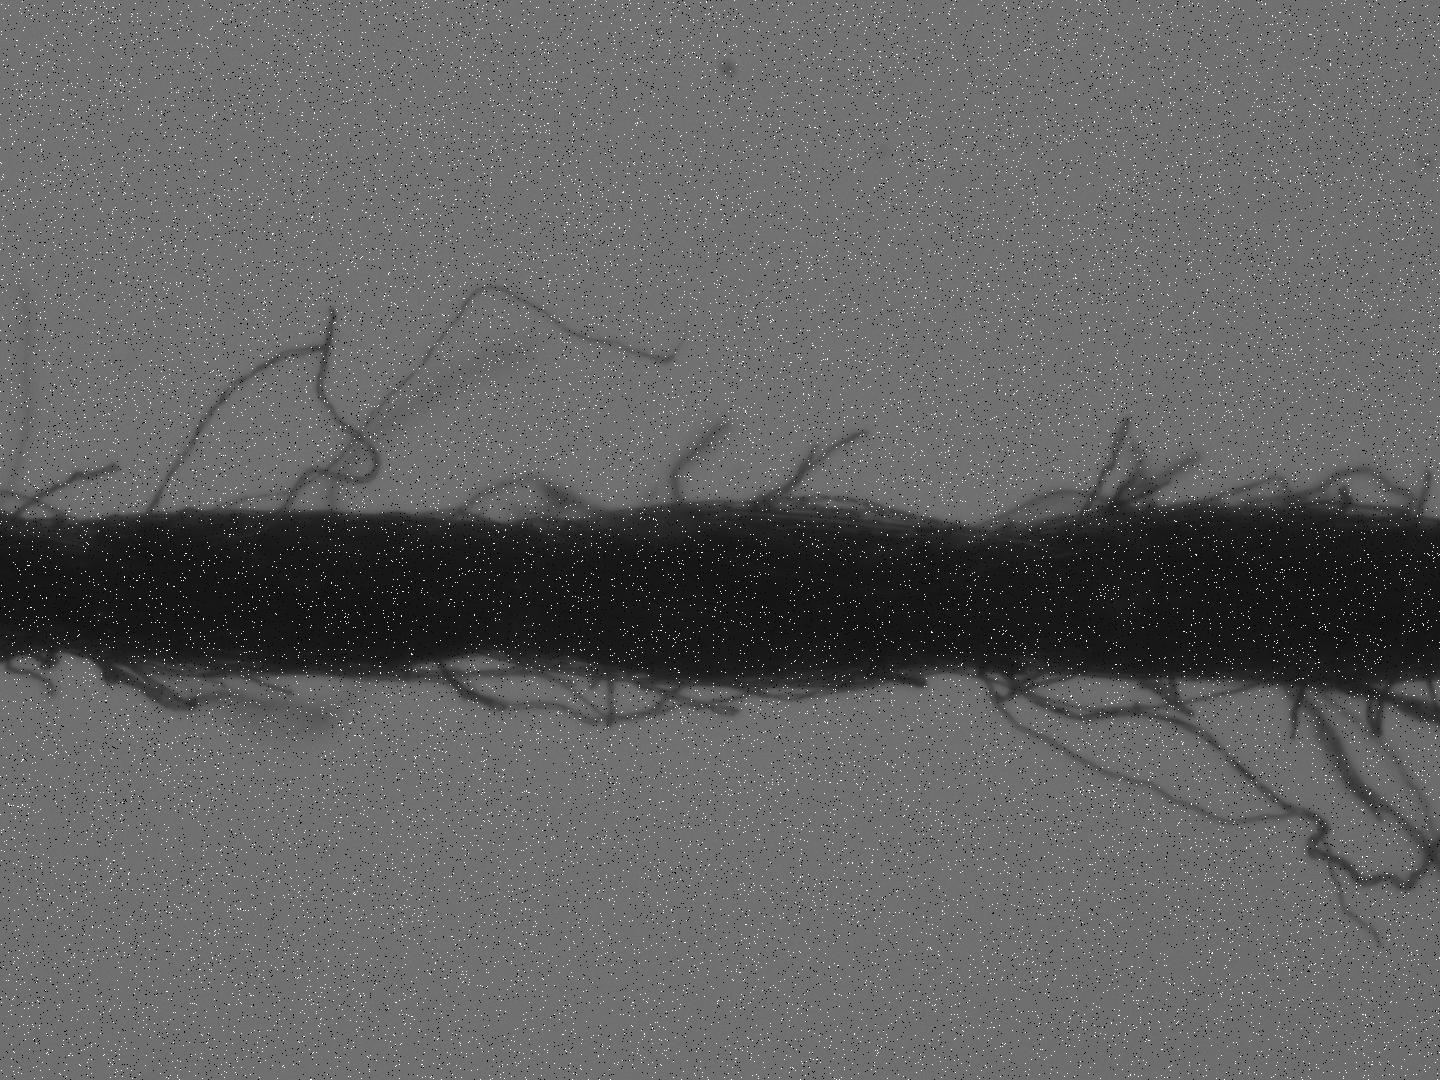loop_fiber: (974, 652, 1439, 900), (1186, 461, 1417, 534), (533, 664, 773, 723), (1016, 675, 1268, 729), (446, 476, 638, 528), (756, 490, 955, 529), (980, 488, 1150, 531), (737, 673, 858, 706)
protruding_fiber: (10, 459, 126, 535), (229, 675, 298, 701)
